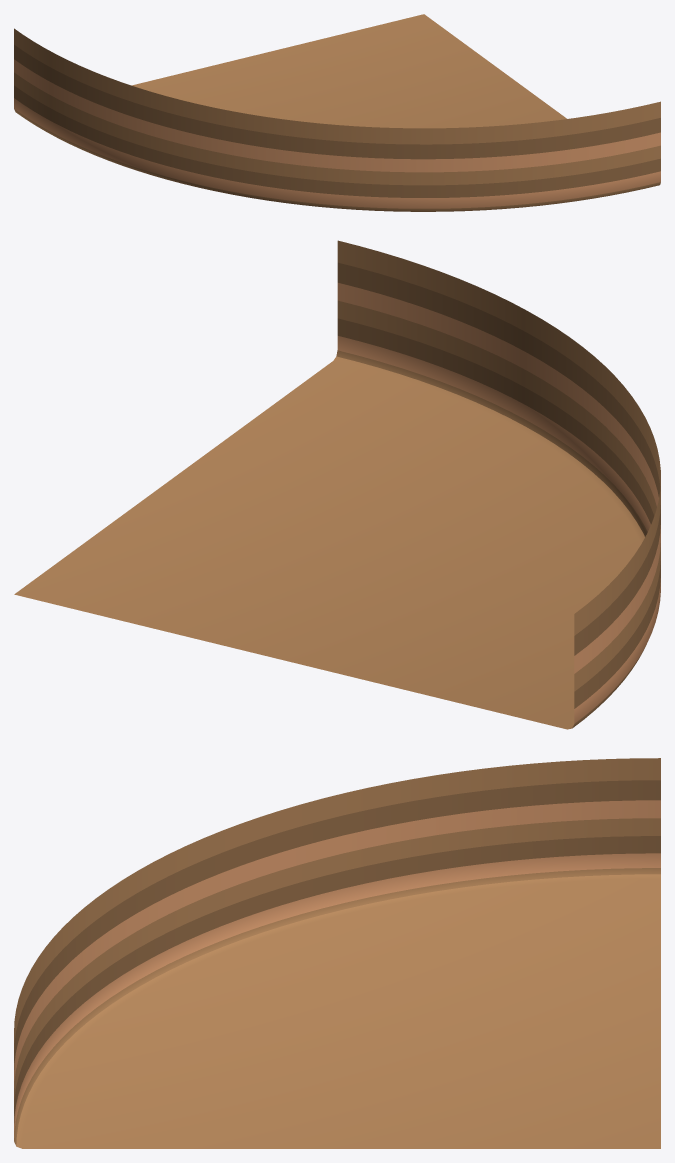
The model's file is platform_grass_corner_round5_bottom_tall.gltf.
The picture shows the model from 3 angles, top to bottom: view 1: azimuth 30°, elevation 25°; view 2: azimuth 150°, elevation 25°; view 3: azimuth 270°, elevation 25°; orthographic projection. The views are drawn at different scales.
Visible parts, largest first — view 1: Cube_Grass_Corner_Round5Bottom_Tall; view 2: Cube_Grass_Corner_Round5Bottom_Tall; view 3: Cube_Grass_Corner_Round5Bottom_Tall.
Boxes of the visible parts, box(x1,y1,x2,y2) form: Cube_Grass_Corner_Round5Bottom_Tall: box(14, 14, 660, 211); Cube_Grass_Corner_Round5Bottom_Tall: box(14, 240, 660, 729); Cube_Grass_Corner_Round5Bottom_Tall: box(14, 758, 660, 1148).
Size of the model in its own units: 10 by 2 by 10.
